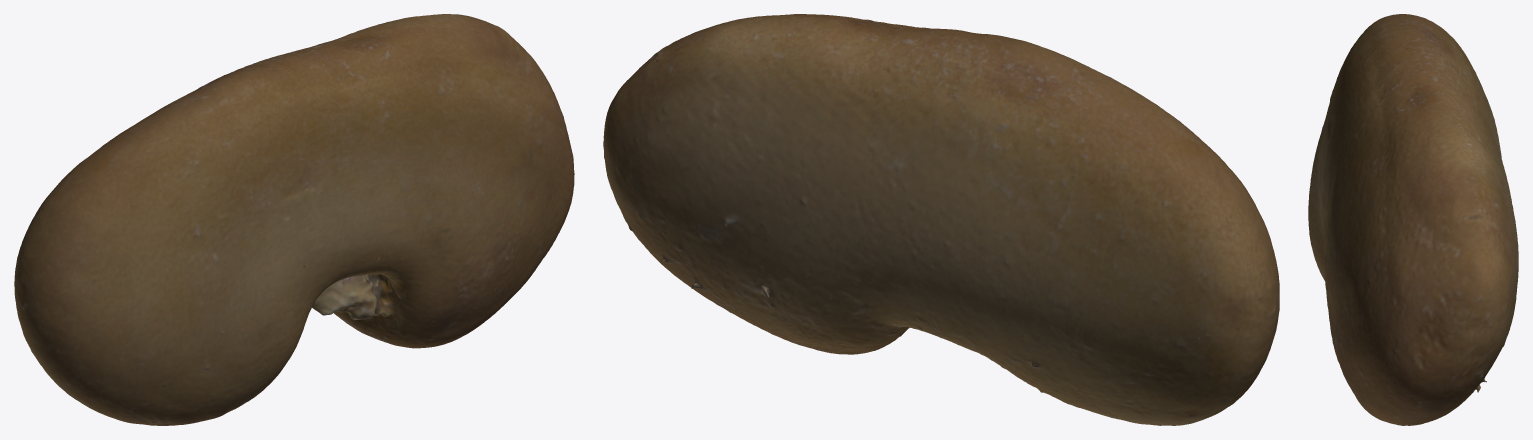
3 views of the same model, side by side, from view 1: azimuth 30°, elevation 25°; view 2: azimuth 150°, elevation 25°; view 3: azimuth 270°, elevation 25° (orthographic). The views are drawn at different scales.
Visible parts, largest first — view 1: Schweineniere_klein; view 2: Schweineniere_klein; view 3: Schweineniere_klein.
Part boxes in pixels (x1,y1,x2,y2): Schweineniere_klein: [14, 14, 574, 425]; Schweineniere_klein: [603, 14, 1279, 425]; Schweineniere_klein: [1308, 14, 1518, 425].
Size of the model in its own units: 8593 by 4666 by 2923.
Materials: 1 (1 with a texture image).
